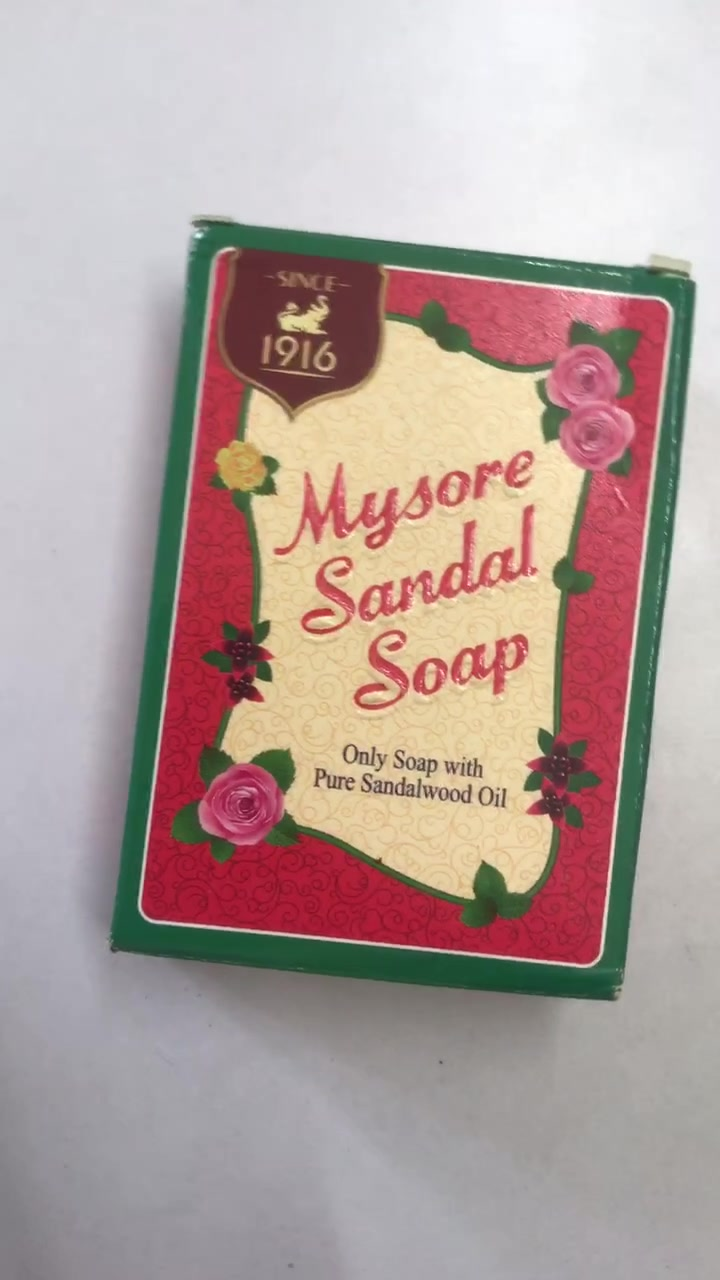mysore sandal soap: (112, 228, 648, 1003)
